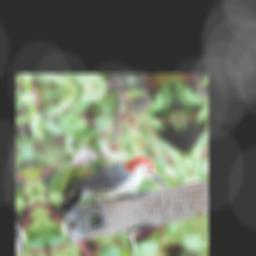Woodpecker: (43, 153, 170, 221)
